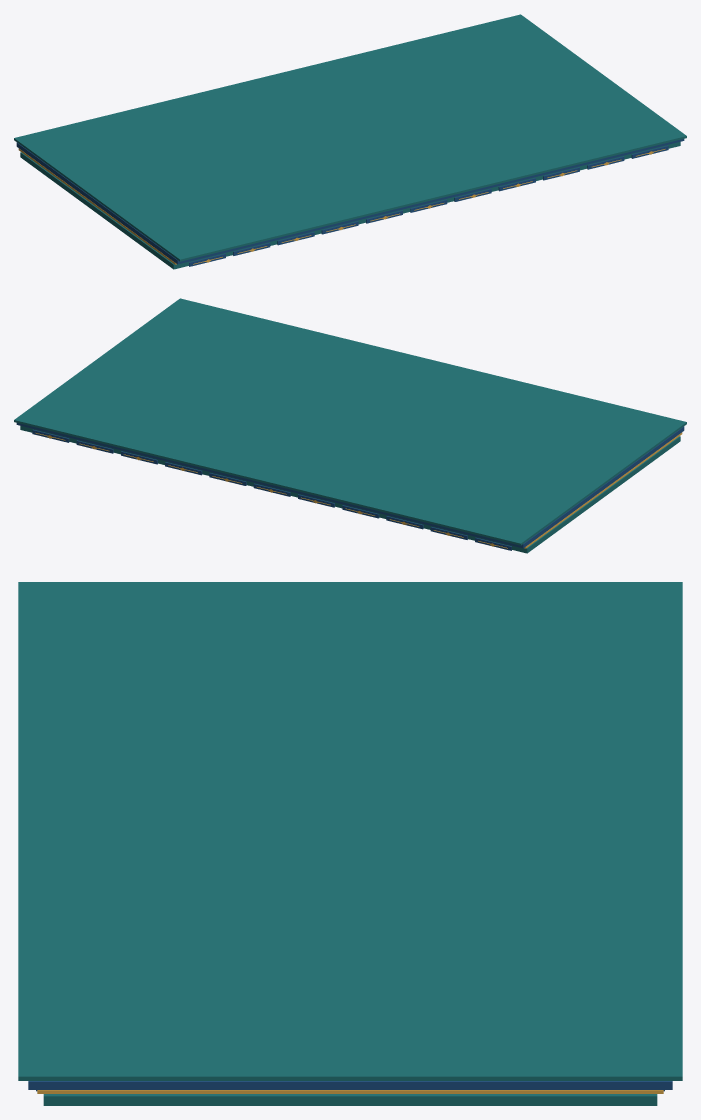
The model's file is SM_15_Painted_Beams.fbx.
3 renders of one model, top to bottom at view 1: azimuth 30°, elevation 25°; view 2: azimuth 150°, elevation 25°; view 3: azimuth 270°, elevation 25°, orthographic. The views are drawn at different scales.
Parts seen in each view (by area): view 1: Painted_Beams; view 2: Painted_Beams; view 3: Painted_Beams.
Part boxes in pixels (x1,y1,x2,y2): Painted_Beams: (14,14,686,269); Painted_Beams: (14,298,686,553); Painted_Beams: (18,582,682,1105).
Bounding box in the file's own units: 4580 × 2600 × 126.
